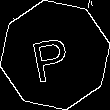P_N: (32, 27, 78, 83)
